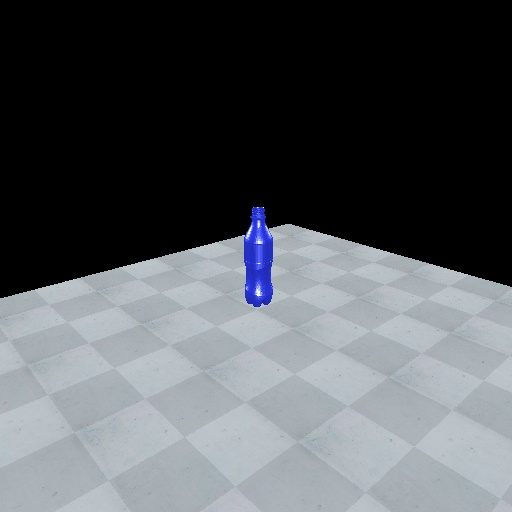bottle: (240, 201, 277, 310)
